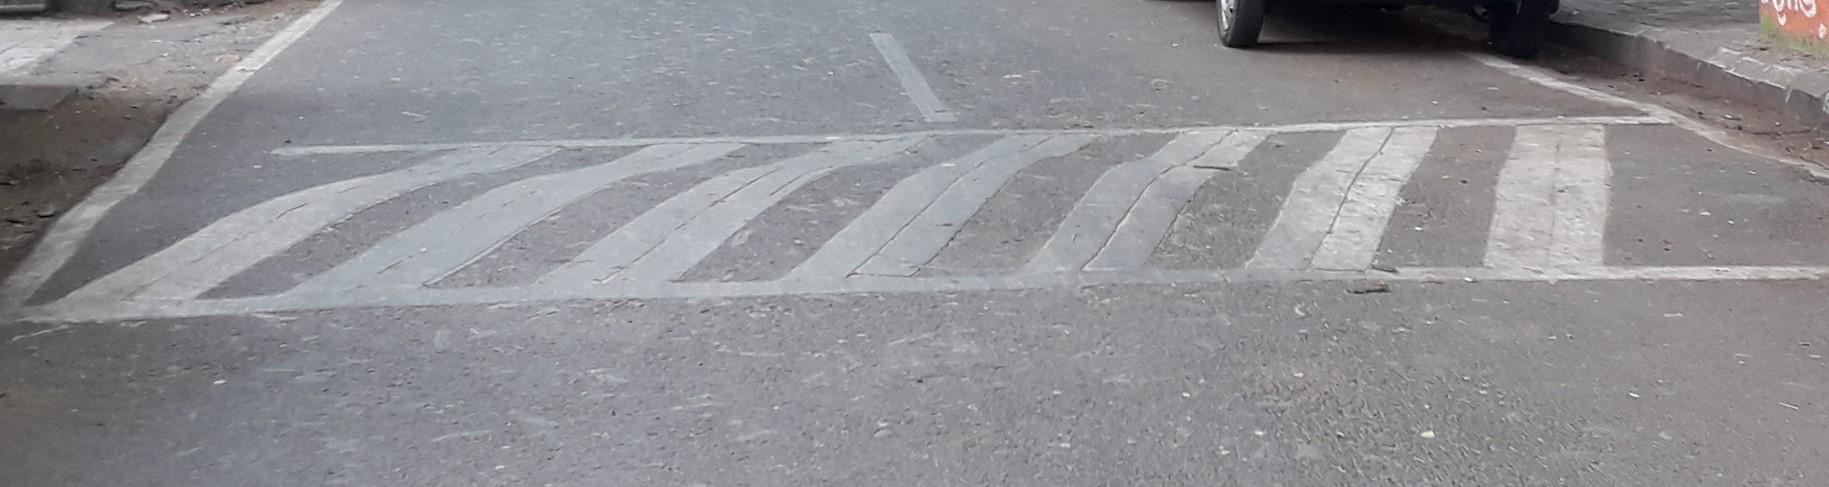speed-bump: (13, 110, 1825, 321)
